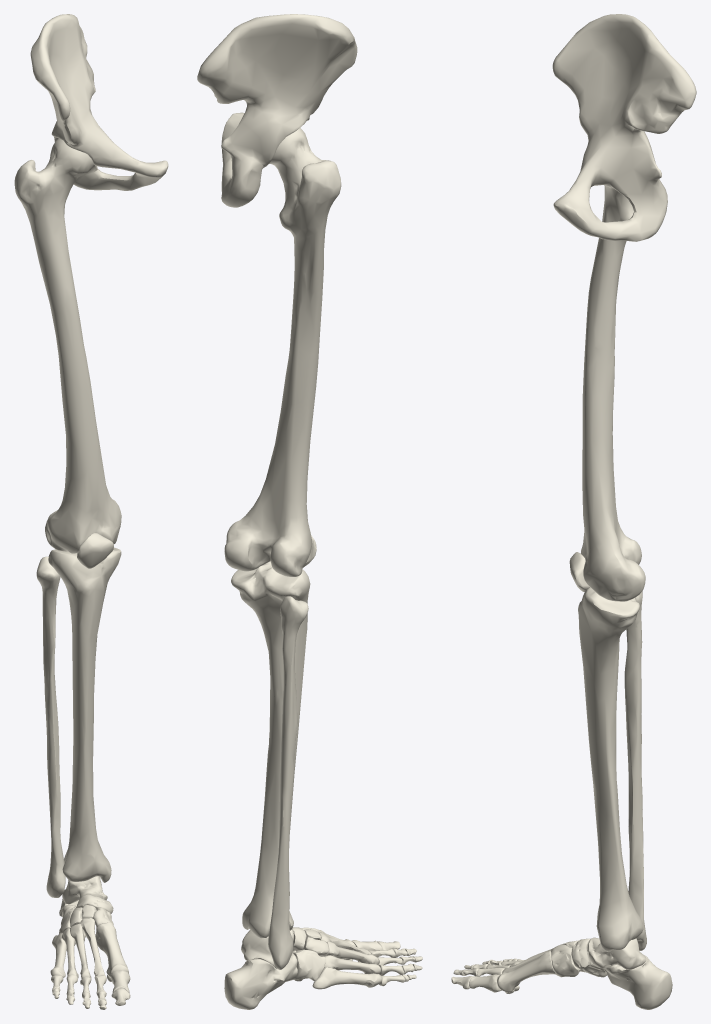
File: leg-right.glb
3 views of the same model, side by side, from view 1: azimuth 30°, elevation 25°; view 2: azimuth 150°, elevation 25°; view 3: azimuth 270°, elevation 25° (orthographic). The views are drawn at different scales.
Parts seen in each view (by area): view 1: bp3d_FMA24474_FJ3365, bp3d_FMA24477_FJ3387, bp3d_FMA16586_FJ3152, bp3d_FMA24480_FJ3366, bp3d_FMA24507_FJ3351, bp3d_FMA24486_FJ3381, bp3d_FMA24482_FJ3385, bp3d_FMA24509_FJ3353, bp3d_FMA24511_FJ3355, bp3d_FMA24515_FJ3359, bp3d_FMA24513_FJ3357, bp3d_FMA24500_FJ3308; view 2: bp3d_FMA24474_FJ3365, bp3d_FMA16586_FJ3152, bp3d_FMA24477_FJ3387, bp3d_FMA24480_FJ3366, bp3d_FMA24497_FJ3360, bp3d_FMA24515_FJ3359, bp3d_FMA24528_FJ3364, bp3d_FMA24482_FJ3385, bp3d_FMA24513_FJ3357, bp3d_FMA24511_FJ3355; view 3: bp3d_FMA16586_FJ3152, bp3d_FMA24474_FJ3365, bp3d_FMA24477_FJ3387, bp3d_FMA24480_FJ3366, bp3d_FMA24497_FJ3360, bp3d_FMA24482_FJ3385, bp3d_FMA24507_FJ3351, bp3d_FMA24521_FJ3377.
Boxes of the visible parts, left/top/right/bottom form: bp3d_FMA24474_FJ3365: left=14, top=138, right=121, bottom=553; bp3d_FMA24477_FJ3387: left=48, top=547, right=121, bottom=882; bp3d_FMA16586_FJ3152: left=30, top=14, right=168, bottom=190; bp3d_FMA24480_FJ3366: left=36, top=556, right=65, bottom=897; bp3d_FMA24507_FJ3351: left=95, top=922, right=128, bottom=977; bp3d_FMA24486_FJ3381: left=77, top=533, right=113, bottom=568; bp3d_FMA24482_FJ3385: left=62, top=876, right=107, bottom=904; bp3d_FMA24509_FJ3353: left=80, top=918, right=105, bottom=976; bp3d_FMA24511_FJ3355: left=70, top=923, right=91, bottom=980; bp3d_FMA24515_FJ3359: left=50, top=933, right=66, bottom=977; bp3d_FMA24513_FJ3357: left=62, top=928, right=78, bottom=977; bp3d_FMA24500_FJ3308: left=76, top=894, right=113, bottom=913; bp3d_FMA24474_FJ3365: left=224, top=128, right=341, bottom=576; bp3d_FMA16586_FJ3152: left=197, top=14, right=357, bottom=207; bp3d_FMA24477_FJ3387: left=231, top=561, right=310, bottom=938; bp3d_FMA24480_FJ3366: left=268, top=596, right=308, bottom=969; bp3d_FMA24497_FJ3360: left=224, top=952, right=297, bottom=1009; bp3d_FMA24515_FJ3359: left=312, top=967, right=382, bottom=989; bp3d_FMA24528_FJ3364: left=292, top=949, right=325, bottom=981; bp3d_FMA24482_FJ3385: left=241, top=929, right=293, bottom=968; bp3d_FMA24513_FJ3357: left=324, top=955, right=380, bottom=973; bp3d_FMA24511_FJ3355: left=320, top=941, right=379, bottom=964; bp3d_FMA16586_FJ3152: left=552, top=14, right=696, bottom=241; bp3d_FMA24474_FJ3365: left=580, top=185, right=645, bottom=601; bp3d_FMA24477_FJ3387: left=578, top=587, right=643, bottom=951; bp3d_FMA24480_FJ3366: left=624, top=591, right=646, bottom=950; bp3d_FMA24497_FJ3360: left=604, top=954, right=672, bottom=1009; bp3d_FMA24482_FJ3385: left=587, top=937, right=646, bottom=969; bp3d_FMA24507_FJ3351: left=497, top=951, right=555, bottom=992; bp3d_FMA24521_FJ3377: left=551, top=944, right=580, bottom=977.
Size of the model in its own units: 0.1665 by 1.03 by 0.2349.
